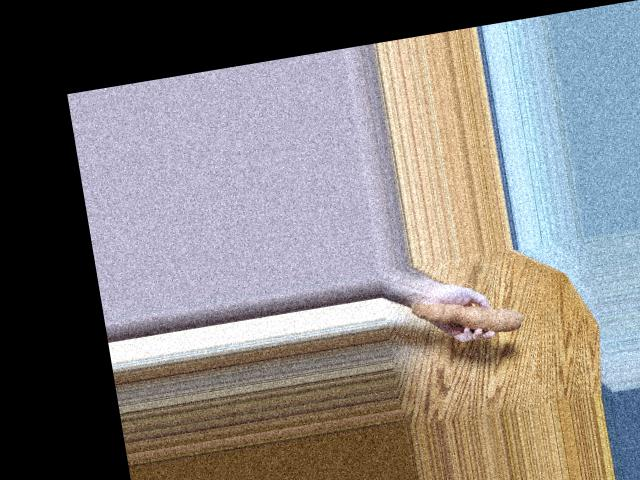sweet_potato: (416, 291, 519, 348)
